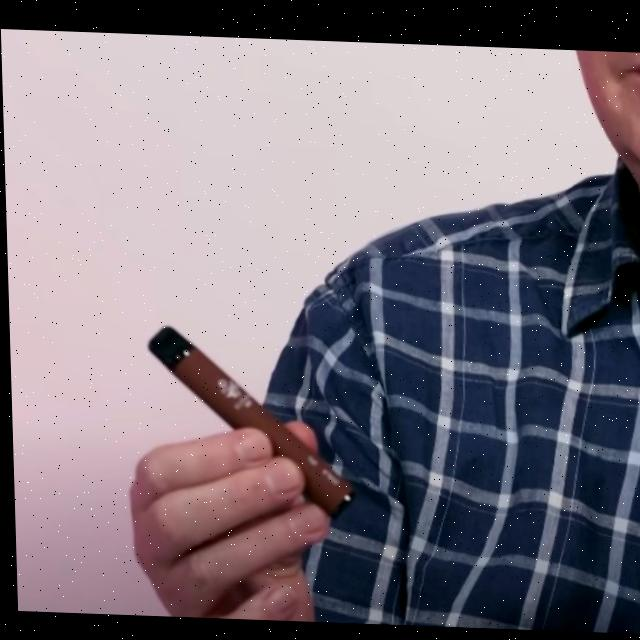vape: (144, 323, 355, 519)
